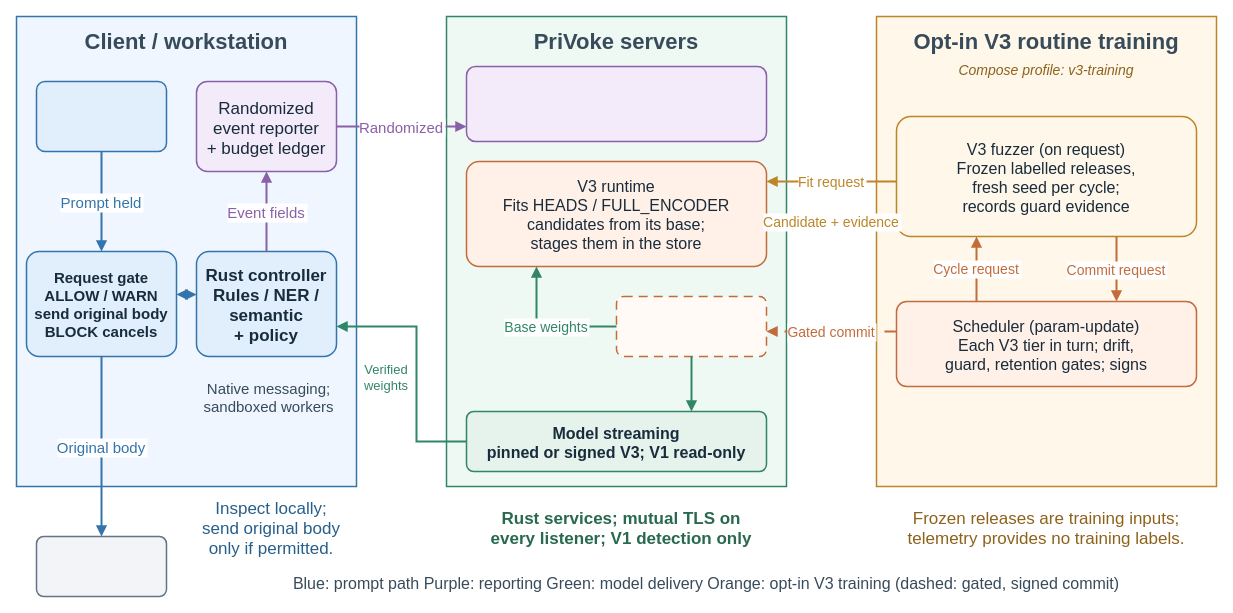
The diagram is 1233 pixels wide and 613 high, and some of its shapes have lost their labels. Each missing label, with the centre of its shape:
Checkpoint store (param-update): pixel 691 326
External LLM endpoint: pixel 101 566
Page hook fetch / XHR: pixel 101 116
Telemetry collector Randomized coarse fields Lifetime marginal estimates: pixel 616 103
